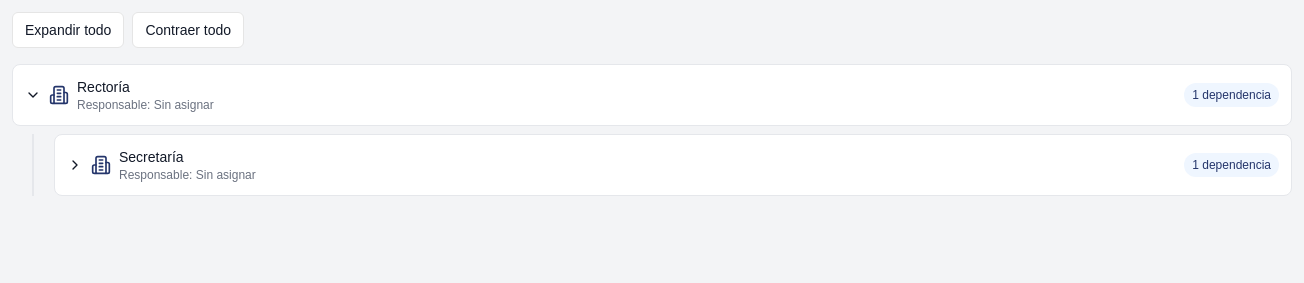
Test: muestra flechas y permite desplegar las dependencias recuperadas del listado
Expected: the text "Secretaría" is shown, [119,149,184,165]
Click the button "Secretaría Responsable: Sin asignar 1 dependencia". click: point(151, 157)
box: [54,134,1292,196]
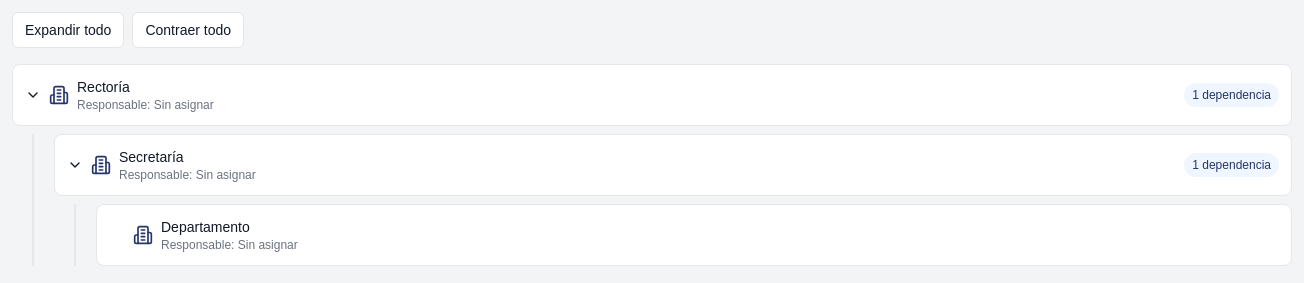
Result: the text "Departamento" is shown at [161,219,250,235]
Click the button "Rectoría Responsable: Sin asignar 1 dependencia". click: point(103, 87)
box: [12,64,1292,126]
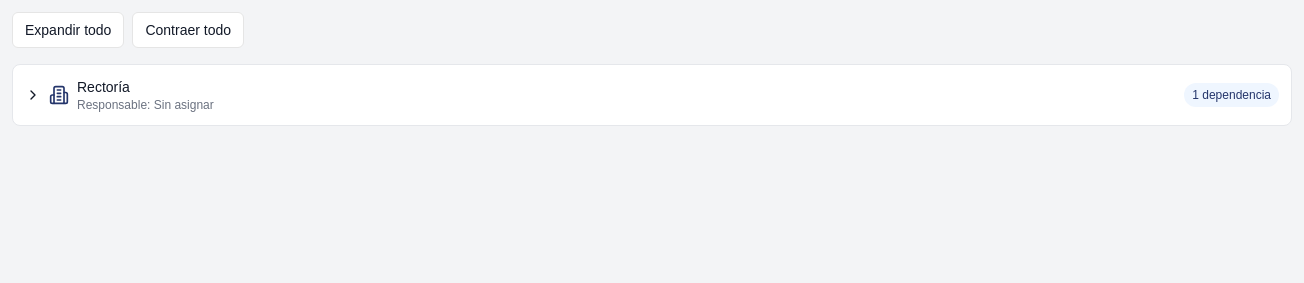
Result: the button "Secretaría" is gone
